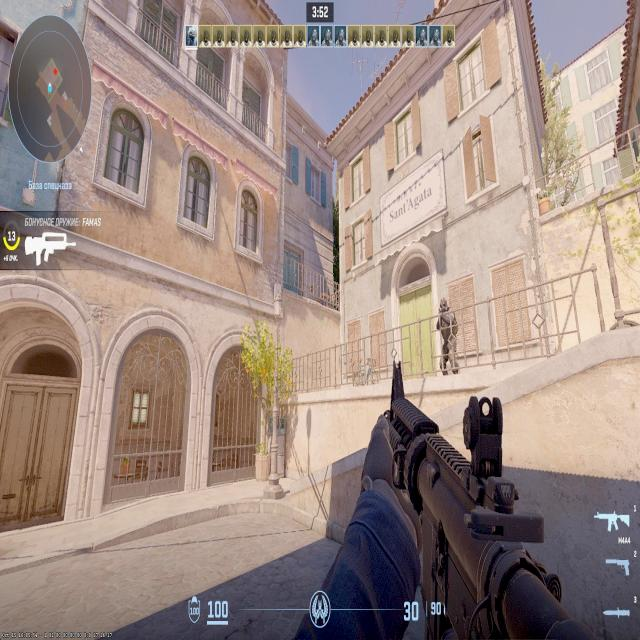CT: (438, 300, 456, 368)
CT_heat: (442, 300, 447, 316)
